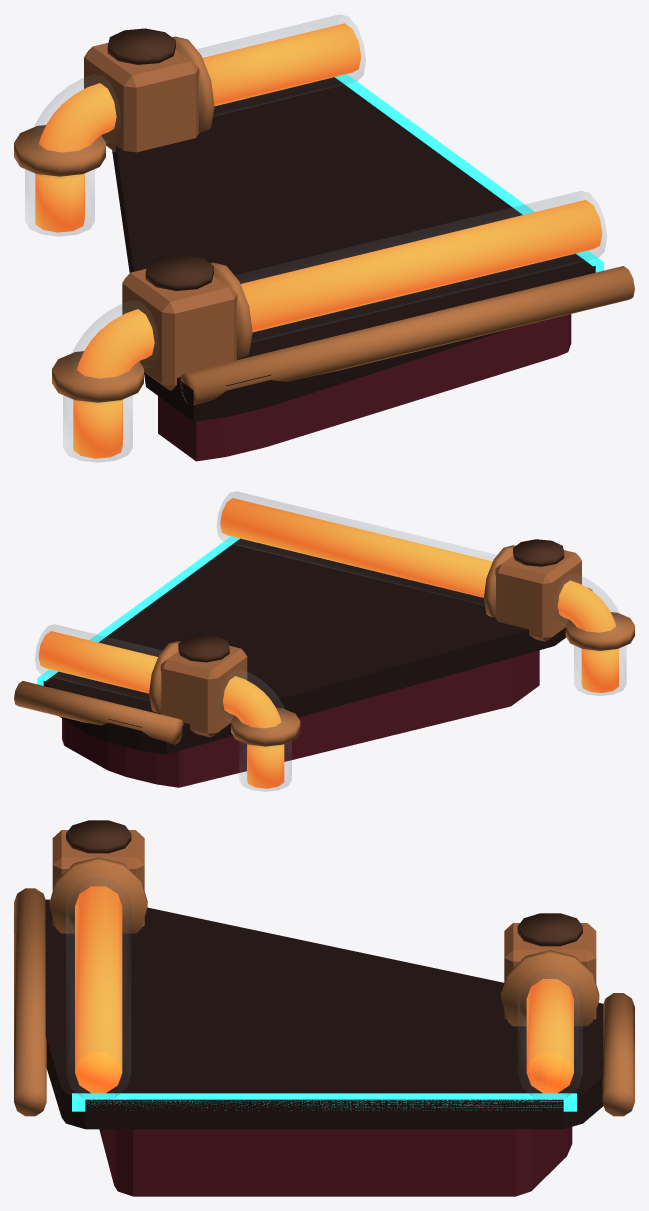
Rendered from Pier_Angled_25.glb.
The picture shows the model from 3 angles, top to bottom: view 1: azimuth 30°, elevation 25°; view 2: azimuth 150°, elevation 25°; view 3: azimuth 270°, elevation 25°; orthographic projection. The views are drawn at different scales.
Parts seen in each view (by area): view 1: CP_Pier_Angled_25; view 2: CP_Pier_Angled_25; view 3: CP_Pier_Angled_25.
Boxes of the visible parts, x1,y1,x2,y2 form: CP_Pier_Angled_25: [14, 14, 634, 462]; CP_Pier_Angled_25: [14, 491, 634, 791]; CP_Pier_Angled_25: [14, 820, 634, 1196].
Size of the model in its own units: 3.87 by 1.31 by 4.18.
